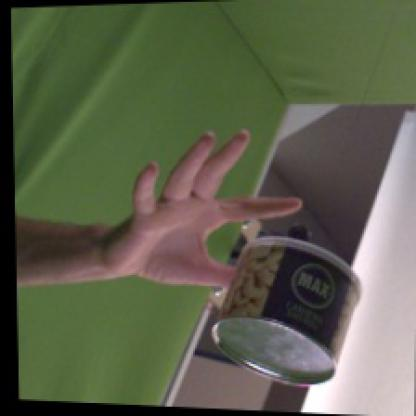Hand: (108, 132, 302, 288)
